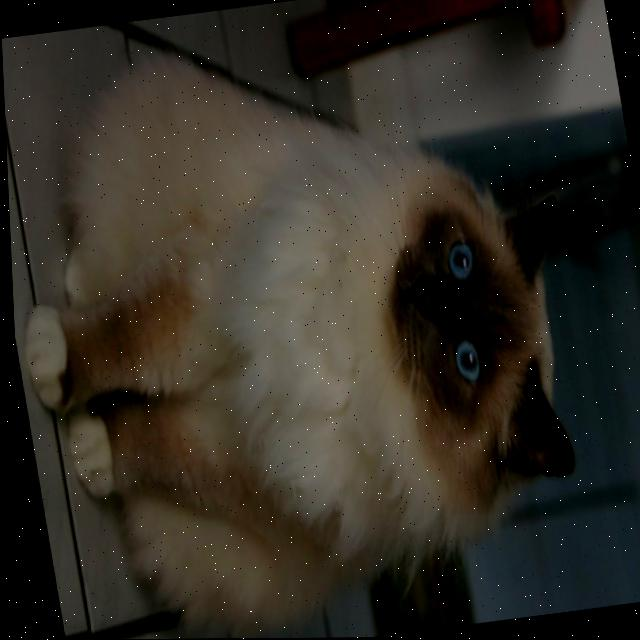Birman: (0, 8, 627, 640)
